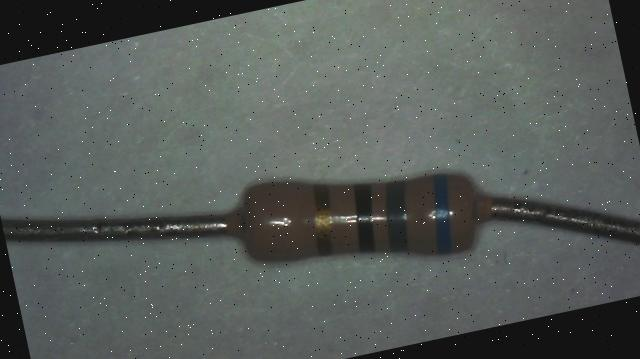black: (346, 182, 382, 252)
blue: (422, 174, 461, 254)
gold: (305, 184, 340, 255)
grey: (378, 179, 417, 252)
resistor: (220, 157, 499, 276)
